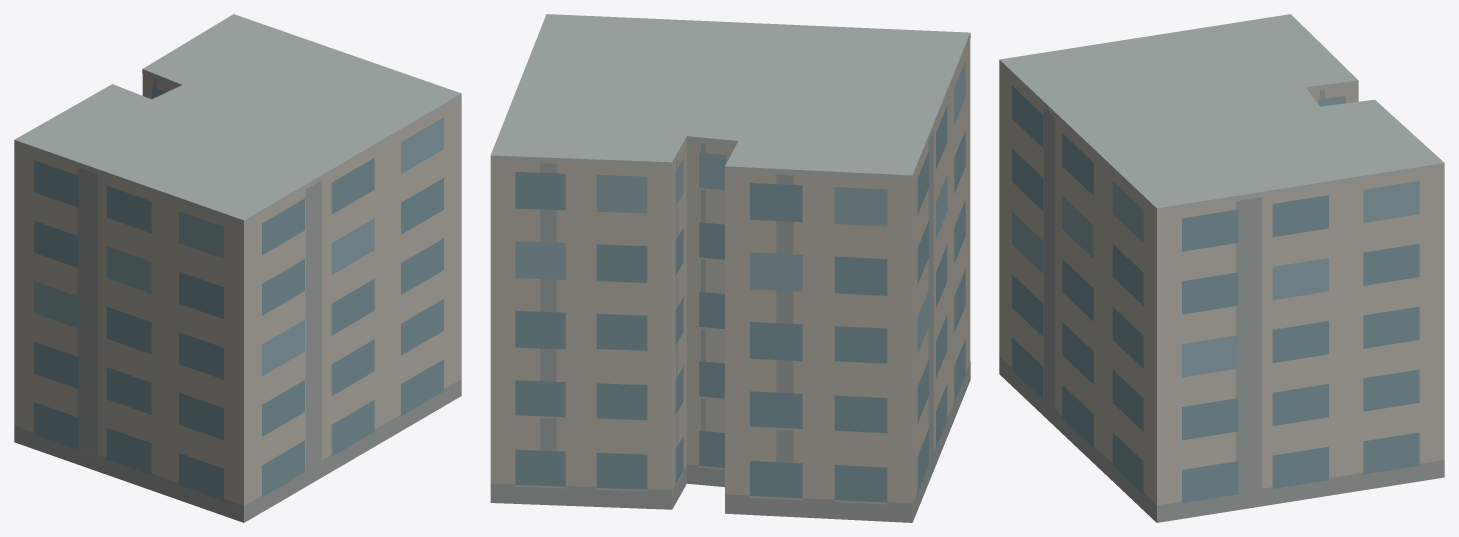
The model's file is survey-upis-32480598.glb.
3 views of the same model, side by side, from view 1: azimuth 30°, elevation 25°; view 2: azimuth 150°, elevation 25°; view 3: azimuth 270°, elevation 25° (orthographic). The views are drawn at different scales.
Parts seen in each view (by area): view 1: survey-upis-32480598.tmp; view 2: survey-upis-32480598.tmp; view 3: survey-upis-32480598.tmp.
Boxes of the visible parts, x1,y1,x2,y2 form: survey-upis-32480598.tmp: (14,14,461,522); survey-upis-32480598.tmp: (490,14,970,522); survey-upis-32480598.tmp: (999,14,1444,522).
Bounding box in the file's own units: 19.36 × 14.6 × 18.74.
